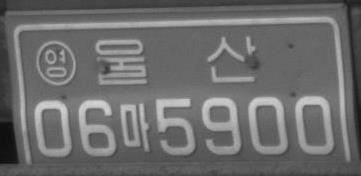0: (246, 95, 289, 156), (293, 94, 334, 155), (32, 99, 73, 158)
5: (154, 96, 196, 157)
6: (78, 98, 117, 157)
9: (201, 96, 242, 157)
마: (119, 102, 150, 152)
영: (35, 39, 77, 86)
울산_D: (94, 34, 257, 85)
